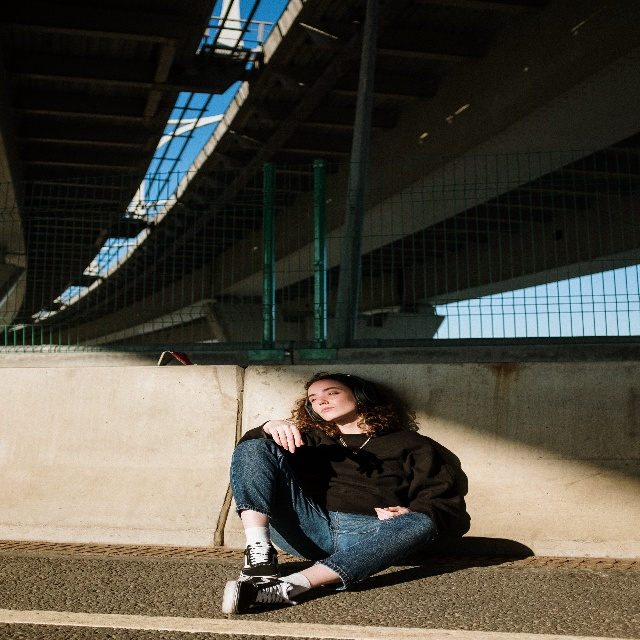Sin_guantes: (266, 419, 305, 454), (374, 506, 410, 521)
